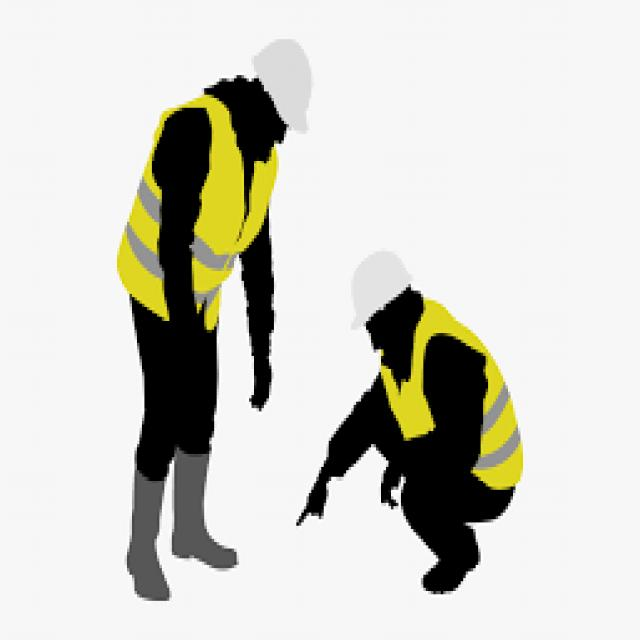Reflective-Jacket: (107, 85, 281, 333), (373, 294, 533, 499)
Safety-Helmet: (247, 29, 321, 134), (342, 238, 418, 333)
